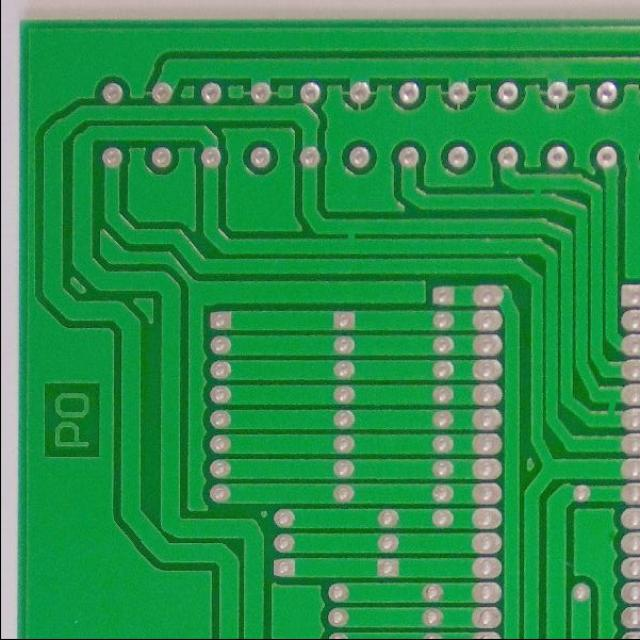short: (326, 216, 376, 257), (514, 174, 555, 210), (593, 391, 631, 427)
